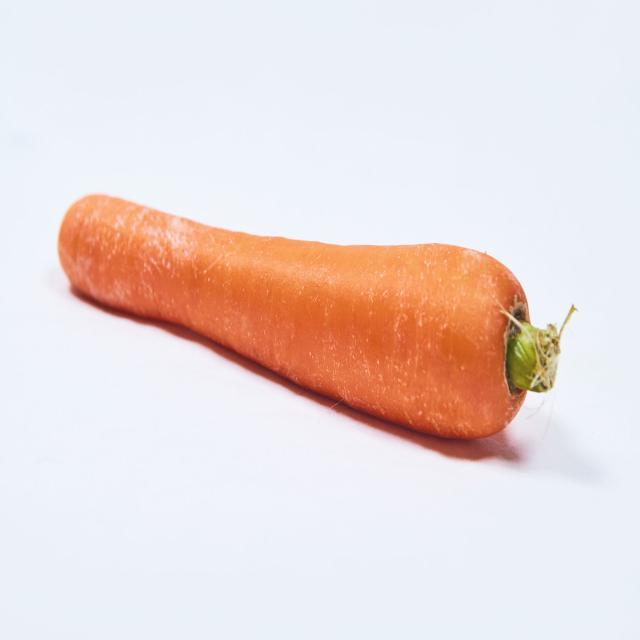Carrot: (56, 192, 574, 444)
